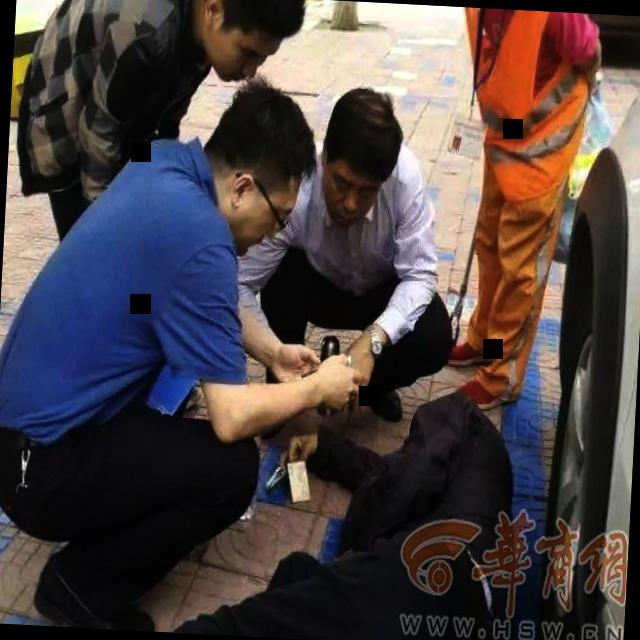Fall-Detected: (84, 339, 550, 640)
